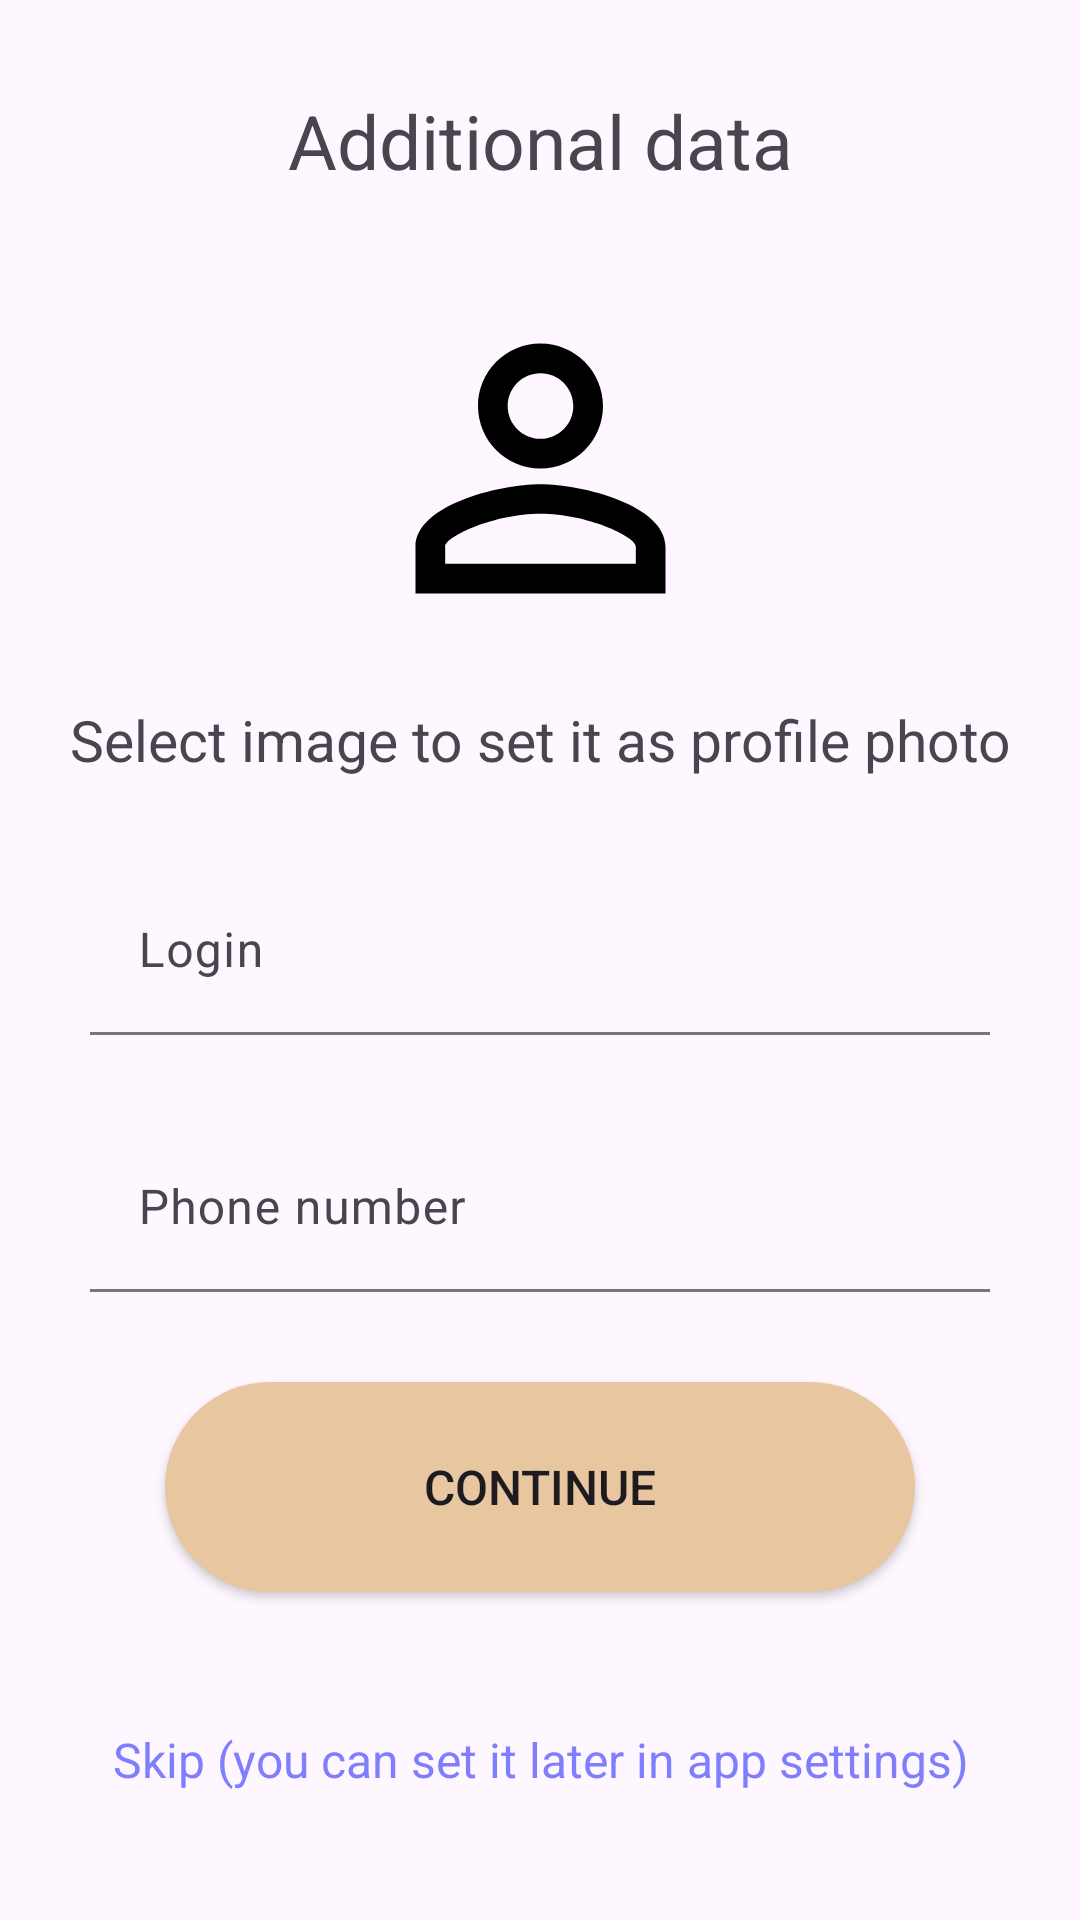

Screen size 1080px x 1920px. Icon name, then its center in pixels as (x,y):
person: (540,468)
